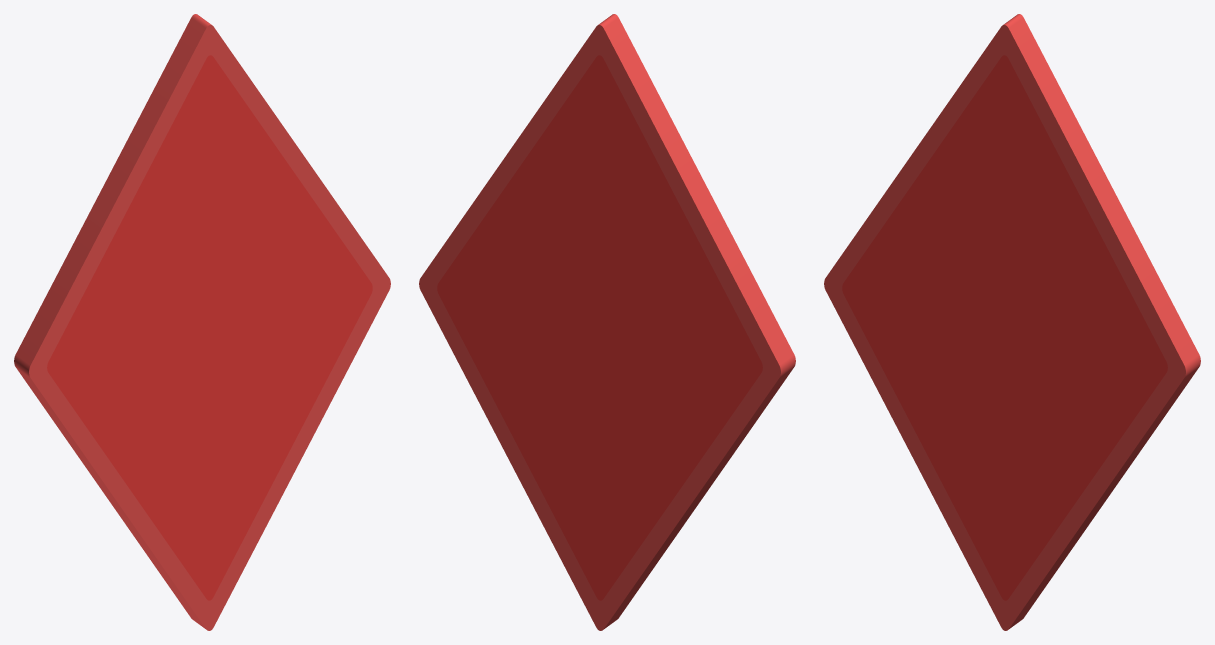
The model's file is diamond_suit.glb.
3 renders of one model, left to right at view 1: azimuth 30°, elevation 25°; view 2: azimuth 150°, elevation 25°; view 3: azimuth 330°, elevation 25°, orthographic.
Visible parts, largest first — view 1: Plane.314; view 2: Plane.314; view 3: Plane.314.
Boxes of the visible parts, x1,y1,x2,y2 form: Plane.314: (14,14,390,630); Plane.314: (419,14,795,630); Plane.314: (824,14,1200,630).
Size of the model in its own units: 1.44 by 2.3 by 0.1031.
1 material, 1 textured.
